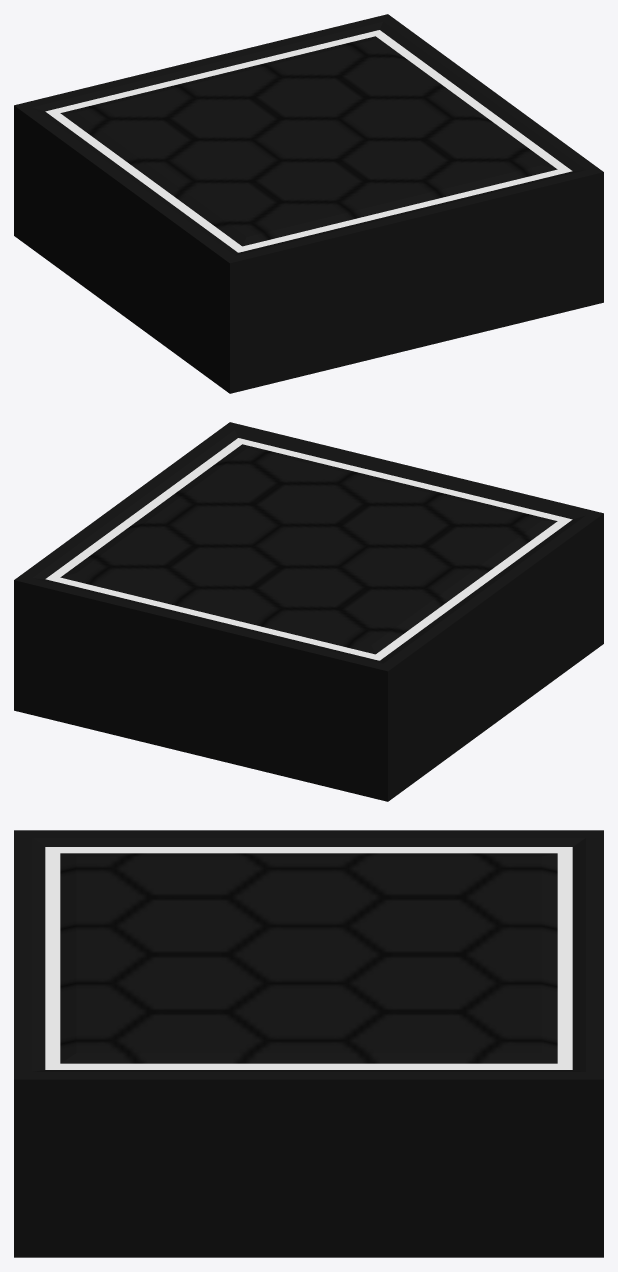
The model's file is Tile 1E3.fbx.
3 views of the same model, one above another, from view 1: azimuth 30°, elevation 25°; view 2: azimuth 150°, elevation 25°; view 3: azimuth 270°, elevation 25° (orthographic). The views are drawn at different scales.
Parts seen in each view (by area): view 1: pCube137; view 2: pCube137; view 3: pCube137.
Part boxes in pixels (bbox=[...]): pCube137: bbox=[14, 14, 603, 393]; pCube137: bbox=[14, 422, 603, 801]; pCube137: bbox=[14, 830, 603, 1257].
Size of the model in its own units: 3 by 1 by 3.
